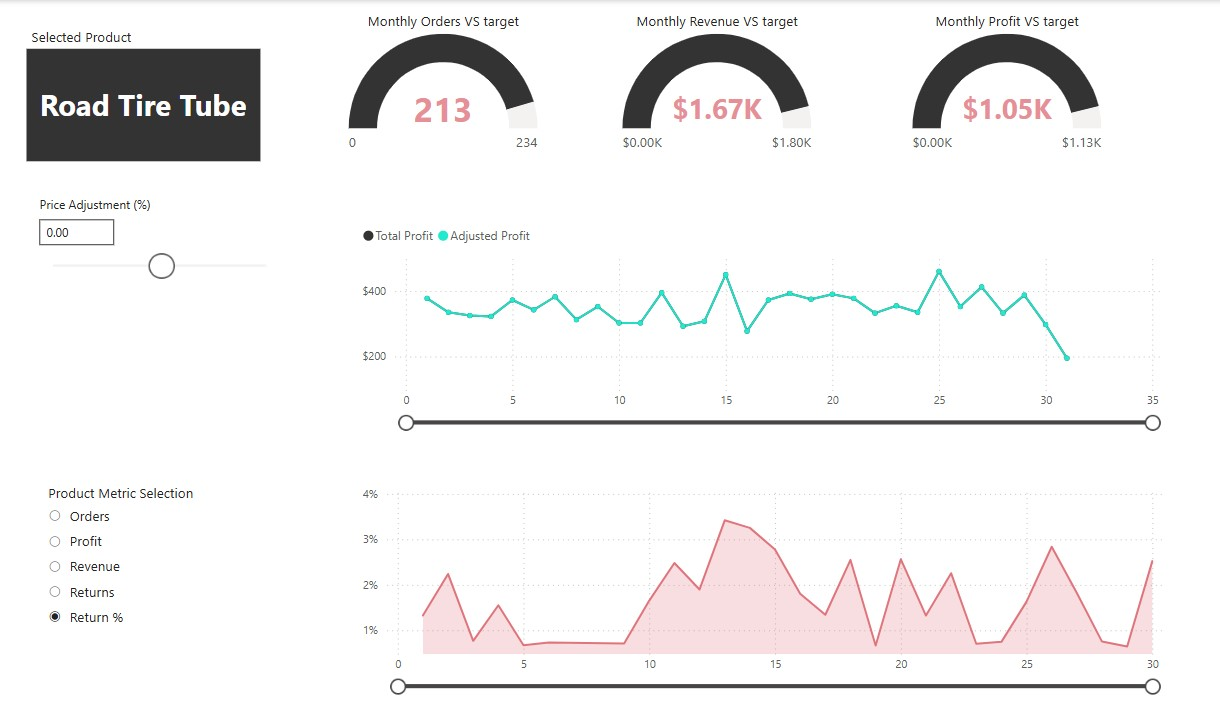

Layout of this report page (visuals, bound fields, positions):
{"tool":"powerbi","page":{"name":"Product Details","canvas":[1280,720],"ordinal":2},"visuals":[{"type":"shape","box":[0,0,45,720],"z":0},{"type":"gauge","title":"Monthly Orders VS target","fields":{"Y":["AW_Sales.Total orders"],"MaxValue":["AW_Sales.Order Target"]},"box":[386.5,11.2,210.2,149.3],"z":1000},{"type":"actionButton","box":[0,477.7,44.8,39.8],"z":1000,"group":"g1"},{"type":"gauge","title":"Monthly Profit VS target","fields":{"Y":["AW_Sales.Total Profit"],"MaxValue":["AW_Sales.Profit target"]},"box":[947.9,11.2,210.2,149.3],"z":2000},{"type":"actionButton","box":[0,537.4,44.8,39.8],"z":2000,"group":"g1"},{"type":"gauge","title":"Monthly Revenue VS target","fields":{"Y":["AW_Sales.Total rev"],"MaxValue":["AW_Sales.Rev target"]},"box":[659.3,11.2,210.2,149.3],"z":3000},{"type":"actionButton","box":[0,592.1,44.8,39.8],"z":3000,"group":"g1"},{"type":"lineChart","title":" Profit Trending","fields":{"Category":["AW_Calendar_Lookup.Date.Variation.Date Hierarchy.Year","AW_Calendar_Lookup.Date.Variation.Date Hierarchy.Quarter","AW_Calendar_Lookup.Date.Variation.Date Hierarchy.Month","AW_Calendar_Lookup.Date.Variation.Date Hierarchy.Day"],"Y":["AW_Sales.Total Profit","AW_Calendar_Lookup.Adjusted Profit"]},"box":[406.8,215.2,806.1,216.4],"z":4000},{"type":"actionButton","box":[0,649.4,44.8,39.8],"z":4000,"group":"g1"},{"type":"areaChart","title":"Returns Trending","fields":{"Category":["AW_Calendar_Lookup.Date.Variation.Date Hierarchy.Year","AW_Calendar_Lookup.Date.Variation.Date Hierarchy.Quarter","AW_Calendar_Lookup.Date.Variation.Date Hierarchy.Month","AW_Calendar_Lookup.Date.Variation.Date Hierarchy.Day"],"Y":["AW_Returns.Return Rate"]},"box":[406.8,477.7,806.1,216.4],"z":5000},{"type":"card","fields":{"Values":["Min(AW_Product_Lookup.ProductName)"]},"box":[77.1,48.5,232.6,112],"z":6000},{"type":"textbox","box":[77.1,22.4,269.9,34.8],"z":7000},{"type":"group","id":"g1","title":"nav buttons","box":[0,477.7,44.8,211.5],"z":8000},{"type":"slicer","fields":{"Values":["Price Adjustment (%).Price Adjustment (%)"]},"box":[77.1,190.3,261.2,123.2],"z":9000},{"type":"slicer","fields":{"Values":["Parameter.Parameter"]},"box":[82.1,497.6,261.2,160.5],"z":9001}]}

Visuals, with their boxes on the page's 1280x720 design canvas (x1, y1, x2, y2). These are canvas units, not pixel positions in the 1220x718 screenshot, which may show the page scaled, cropped or inside an application window:
shape: <box>0,0,45,720</box>
"Monthly Orders VS target" gauge: <box>386,11,597,160</box>
actionButton: <box>0,478,45,518</box>
"Monthly Profit VS target" gauge: <box>948,11,1158,160</box>
actionButton: <box>0,537,45,577</box>
"Monthly Revenue VS target" gauge: <box>659,11,870,160</box>
actionButton: <box>0,592,45,632</box>
" Profit Trending" lineChart: <box>407,215,1213,432</box>
actionButton: <box>0,649,45,689</box>
"Returns Trending" areaChart: <box>407,478,1213,694</box>
card - Min(AW_Product_Lookup.ProductName): <box>77,48,310,160</box>
textbox: <box>77,22,347,57</box>
"nav buttons" group: <box>0,478,45,689</box>
slicer - Price Adjustment (%).Price Adjustment (%): <box>77,190,338,314</box>
slicer - Parameter.Parameter: <box>82,498,343,658</box>
